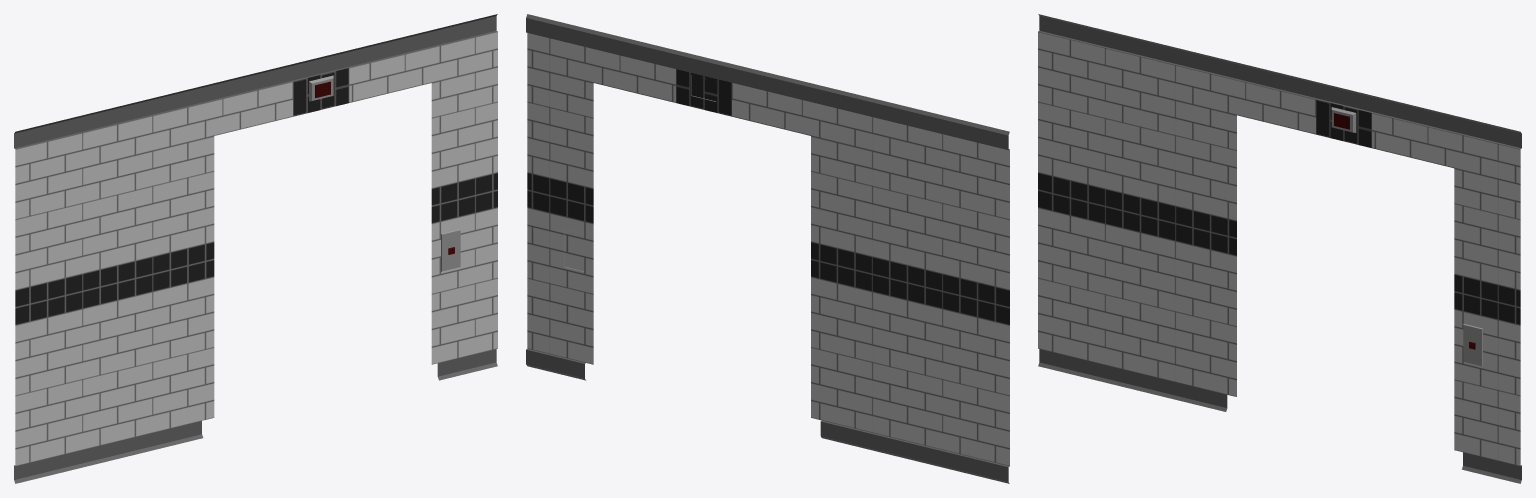
Rendered from SW_ENV_EL_Elevator_WallOpening.fbx.
3 views of the same model, side by side, from view 1: azimuth 30°, elevation 25°; view 2: azimuth 150°, elevation 25°; view 3: azimuth 330°, elevation 25° (orthographic).
Visible parts, largest first — view 1: SW_ENV_EL_Elevator_WallOpening; view 2: SW_ENV_EL_Elevator_WallOpening; view 3: SW_ENV_EL_Elevator_WallOpening.
Boxes of the visible parts, left/top/right/bottom form: SW_ENV_EL_Elevator_WallOpening: left=14, top=14, right=497, bottom=483; SW_ENV_EL_Elevator_WallOpening: left=526, top=14, right=1009, bottom=483; SW_ENV_EL_Elevator_WallOpening: left=1038, top=14, right=1521, bottom=483.
Size of the model in its own units: 430 by 300 by 5.23.
